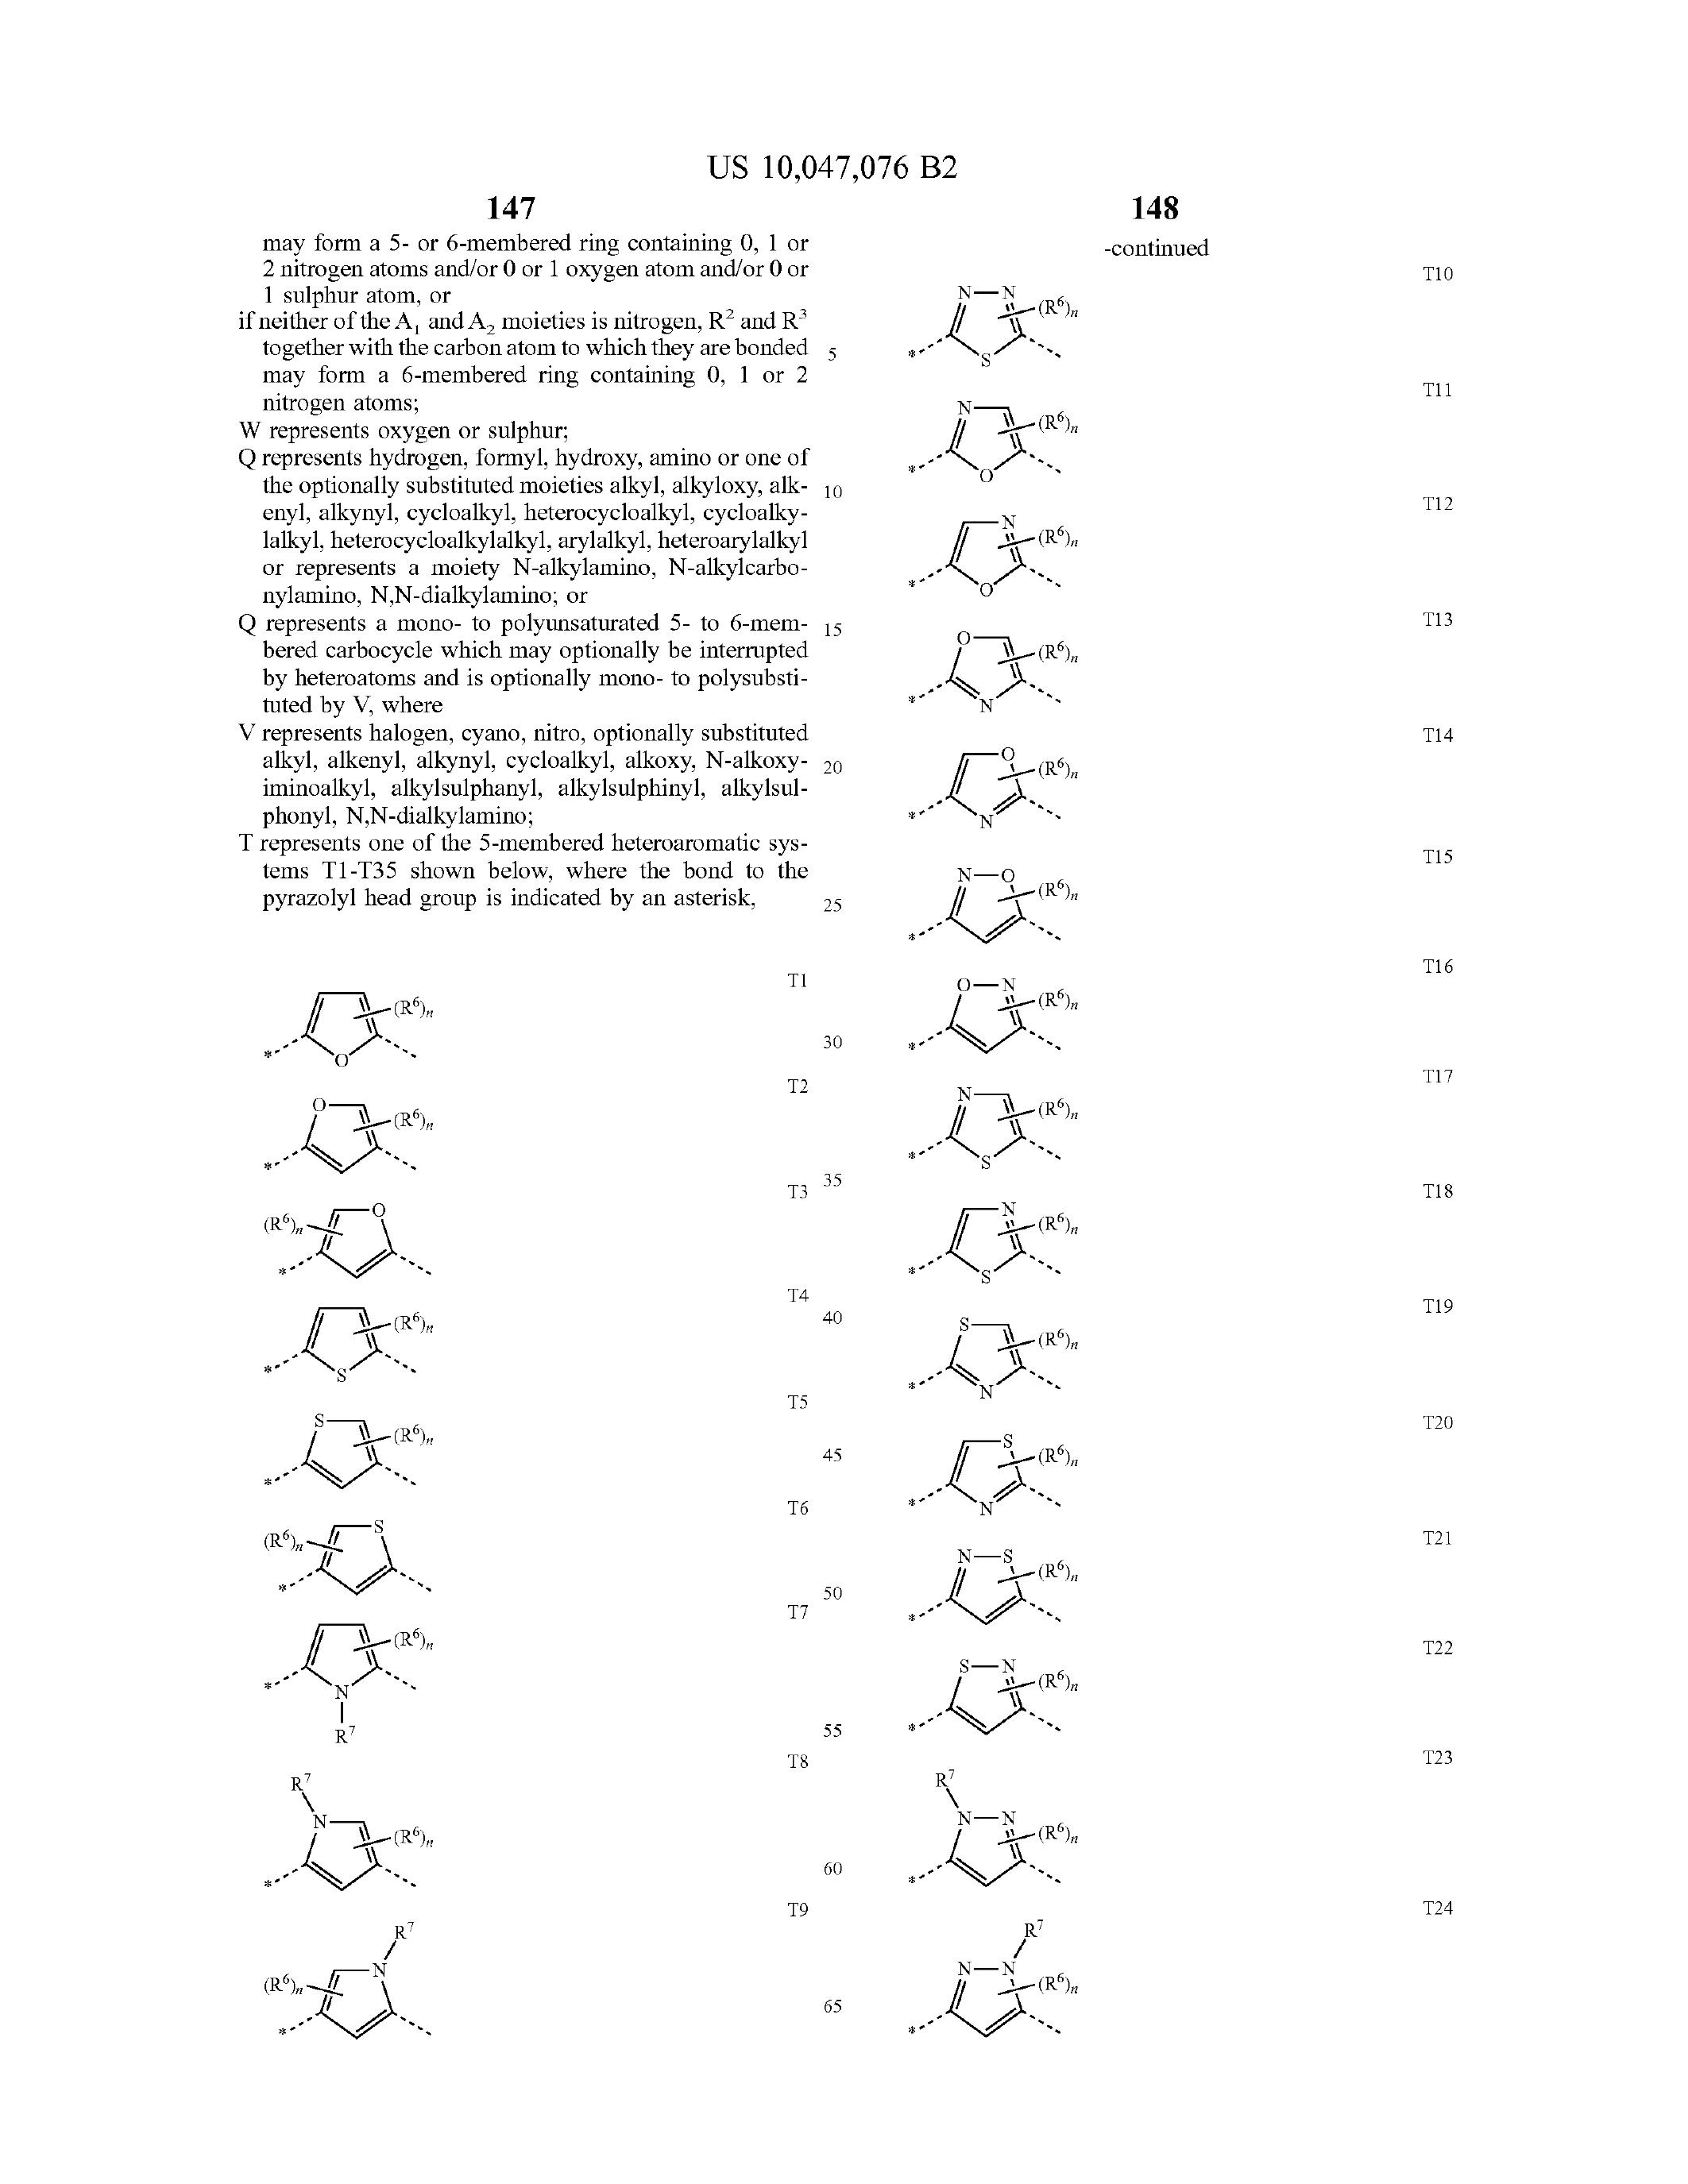intermediates: (209, 955, 566, 1498), (922, 1299, 1142, 2078)
